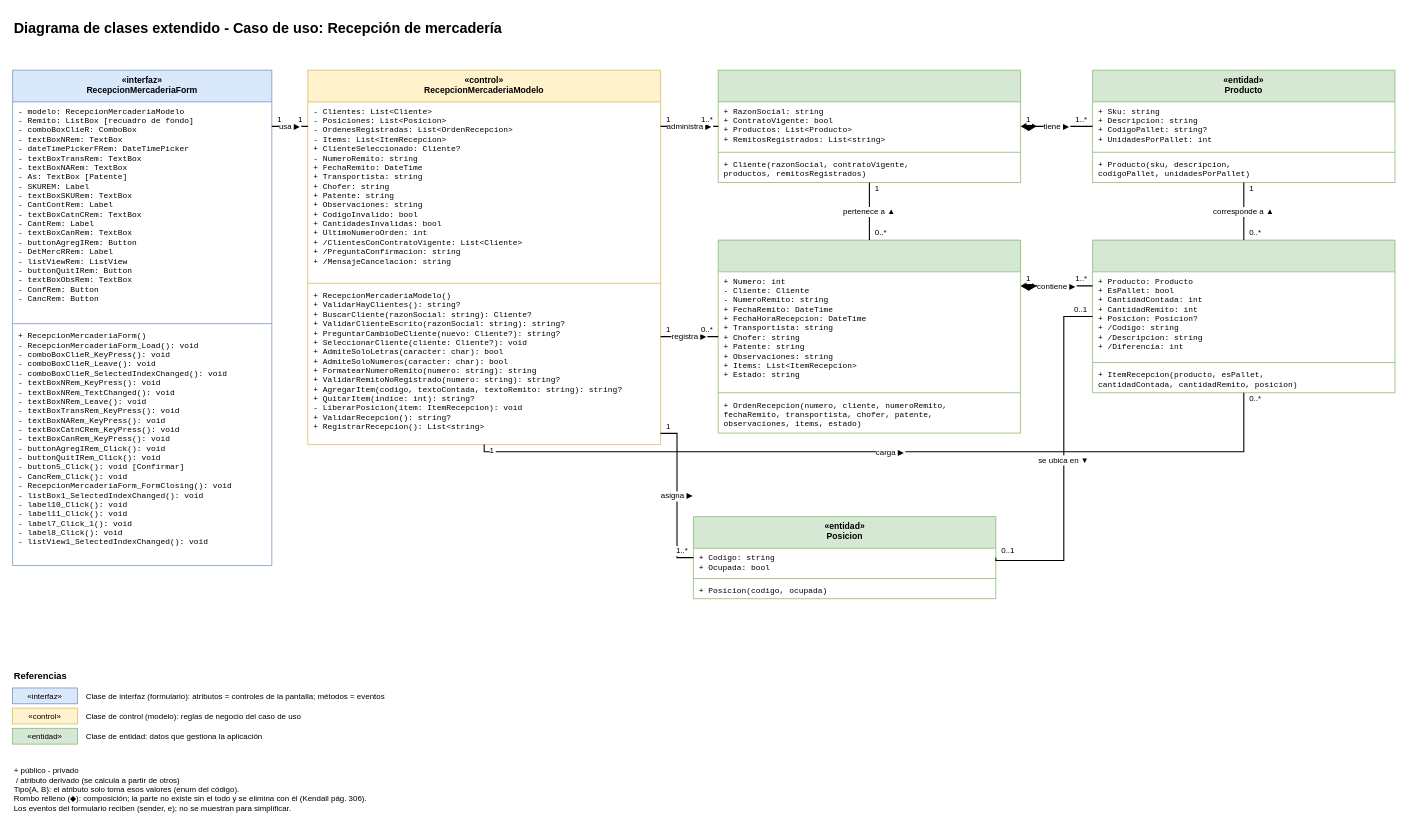
The diagram is 1408 pixels wide and 838 high, and some of its shapes have lost their labels. Each missing label, with the box of its shape:
«entidad» Cliente: (717, 69, 1021, 183)
«entidad» ItemRecepcion: (1092, 239, 1395, 393)
«entidad» OrdenRecepcion: (717, 239, 1021, 433)
